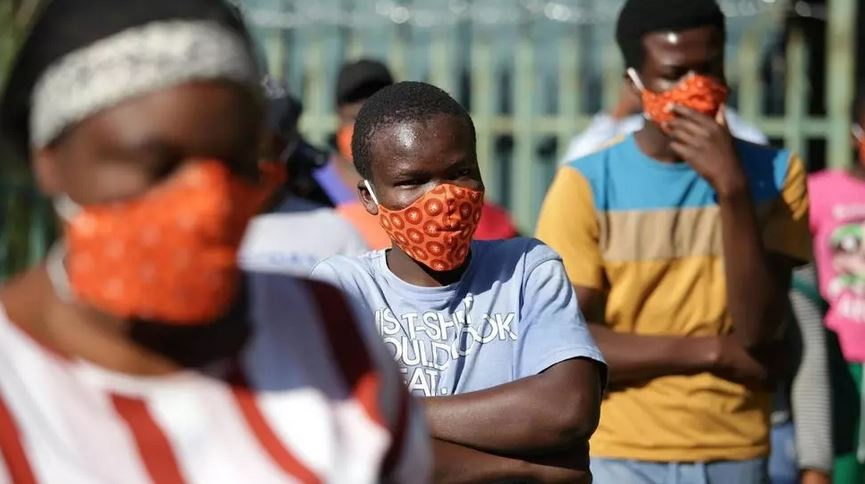with_mask: (88, 106, 259, 324), (375, 124, 482, 276), (635, 28, 728, 143)
